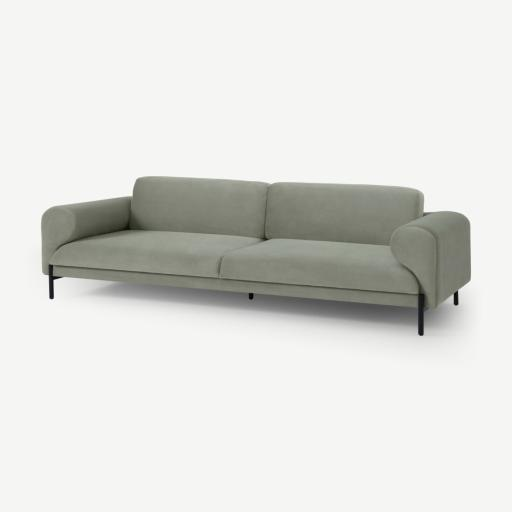back_cushion: (129, 177, 423, 245)
left_arm: (390, 212, 470, 308)
legs: (49, 265, 62, 299), (418, 294, 427, 335), (453, 290, 459, 305), (248, 293, 254, 300)
right_arm: (42, 197, 131, 275)
seat_cushion: (52, 230, 420, 302)
two-seater: (0, 0, 511, 512)
